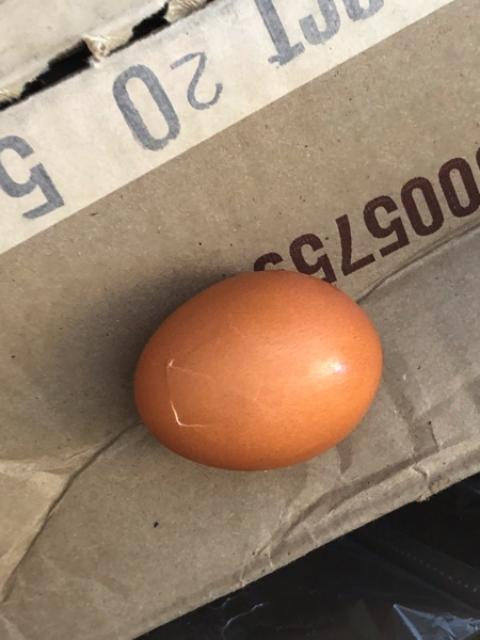Roto: (131, 268, 384, 471)
